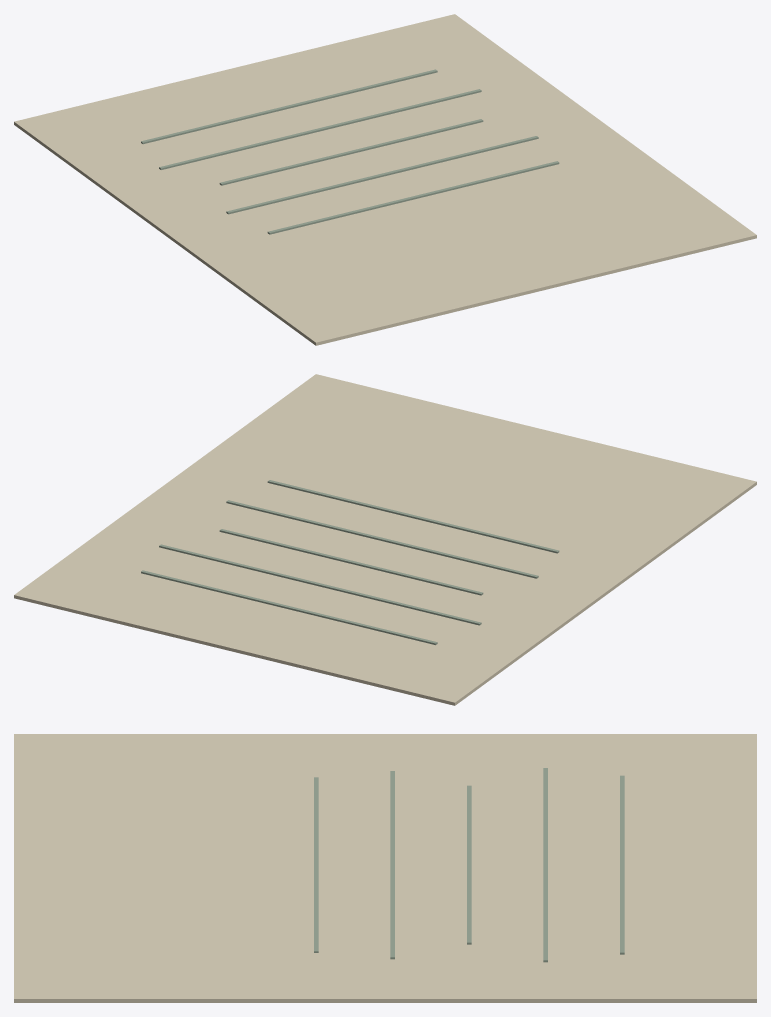
Rendered from proof_leaf.glb.
The picture shows the model from 3 angles, top to bottom: view 1: azimuth 30°, elevation 25°; view 2: azimuth 150°, elevation 25°; view 3: azimuth 270°, elevation 25°; orthographic projection. The views are drawn at different scales.
Parts seen in each view (by area): view 1: Turning paper, Printed line.011, Printed line.013, Printed line.010, Printed line.014, Printed line.012; view 2: Turning paper, Printed line.011, Printed line.013, Printed line.010, Printed line.014, Printed line.012; view 3: Turning paper, Printed line.011, Printed line.013, Printed line.010, Printed line.014, Printed line.012.
Boxes of the visible parts, x1=… form: Turning paper: x1=14, y1=14, x2=756, y2=345; Printed line.011: x1=159, y1=89, x2=481, y2=169; Printed line.013: x1=226, y1=136, x2=538, y2=214; Printed line.010: x1=141, y1=69, x2=437, y2=144; Printed line.014: x1=267, y1=161, x2=559, y2=234; Printed line.012: x1=219, y1=119, x2=483, y2=185; Turning paper: x1=14, y1=374, x2=756, y2=705; Printed line.011: x1=159, y1=544, x2=481, y2=625; Printed line.013: x1=226, y1=500, x2=538, y2=578; Printed line.010: x1=141, y1=570, x2=437, y2=645; Printed line.014: x1=267, y1=480, x2=559, y2=553; Printed line.012: x1=219, y1=529, x2=483, y2=595; Turning paper: x1=14, y1=734, x2=756, y2=1002; Printed line.011: x1=543, y1=768, x2=547, y2=962; Printed line.013: x1=390, y1=771, x2=394, y2=959; Printed line.010: x1=620, y1=775, x2=624, y2=954; Printed line.014: x1=314, y1=777, x2=318, y2=952; Printed line.012: x1=467, y1=785, x2=471, y2=944.
Size of the model in its own units: 0.172 by 0.0026 by 0.204.
